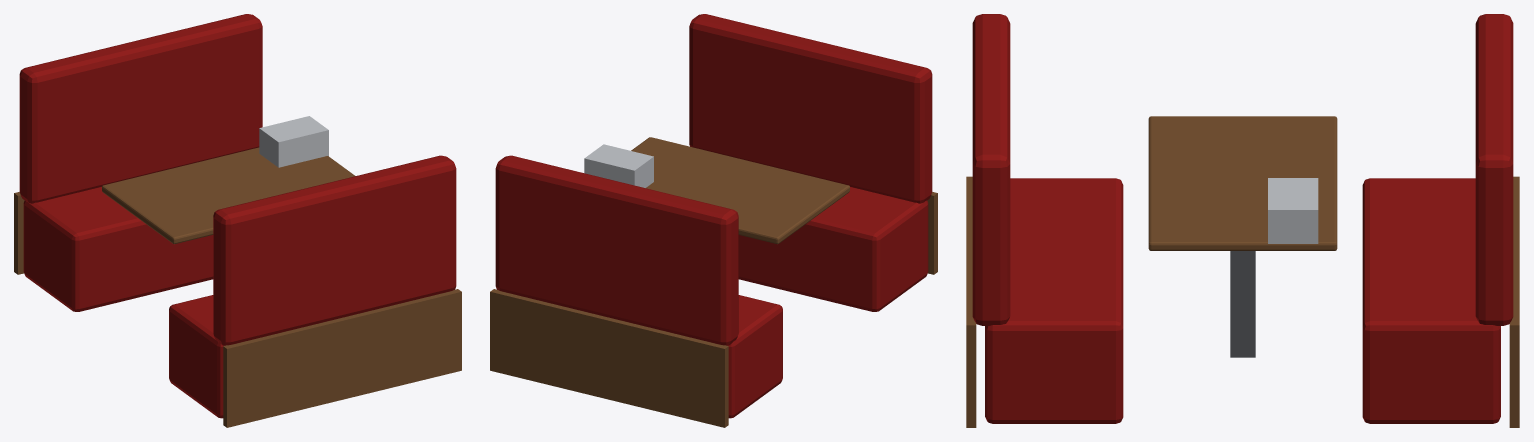
Rendered from booth.glb.
The picture shows the model from 3 angles, left to right: view 1: azimuth 30°, elevation 25°; view 2: azimuth 150°, elevation 25°; view 3: azimuth 270°, elevation 25°; orthographic projection. The views are drawn at different scales.
Visible parts, largest first — view 1: booth; view 2: booth; view 3: booth.
Boxes of the visible parts, x1,y1,x2,y2 form: booth: (14,14,461,427); booth: (490,14,937,427); booth: (966,14,1519,427).
Bounding box in the file's own units: 1.4 × 1.18 × 2.2.
Materials: 1 (1 with a texture image).
